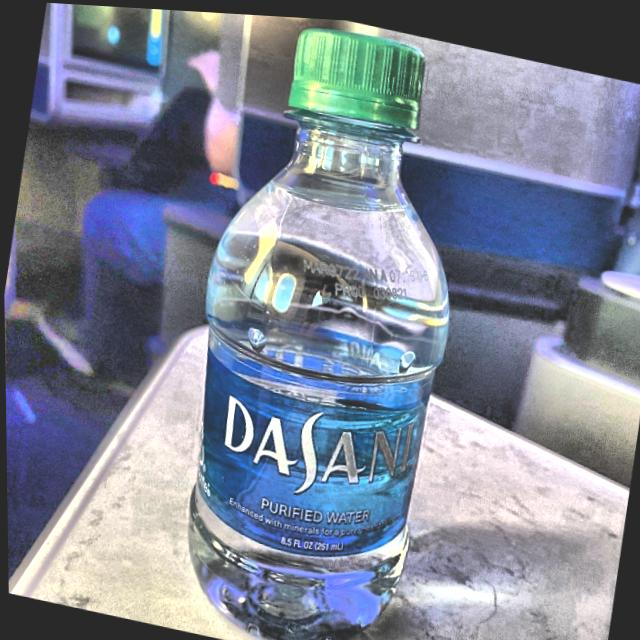Bottles: (135, 6, 510, 640)
